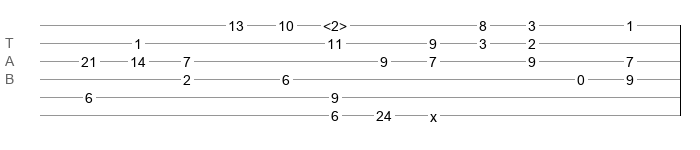0: (577, 72, 585, 82)
1: (134, 36, 142, 46), (626, 18, 634, 28)
10: (278, 18, 294, 28)
11: (327, 36, 343, 46)
13: (228, 18, 244, 28)
14: (130, 54, 146, 64)
2: (183, 72, 191, 82), (528, 36, 536, 46)
21: (81, 54, 97, 64)
24: (376, 108, 392, 118)
3: (479, 36, 487, 46), (528, 18, 536, 28)
6: (85, 90, 93, 100), (282, 72, 290, 82), (331, 108, 339, 118)
7: (183, 54, 191, 64), (429, 54, 437, 64), (626, 54, 634, 64)
8: (479, 18, 487, 28)
9: (331, 90, 339, 100), (380, 54, 388, 64), (429, 36, 437, 46), (528, 54, 536, 64), (626, 72, 634, 82)
harmonic: (323, 18, 347, 28)
x: (430, 109, 437, 117)
